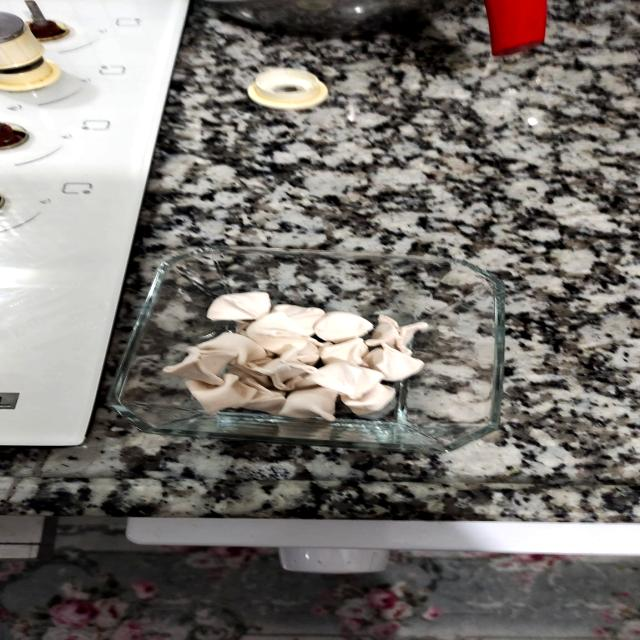turkish dumplings: (154, 279, 472, 425)
